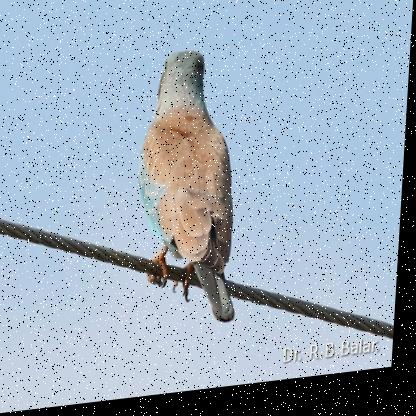Burung: (135, 49, 254, 337)
